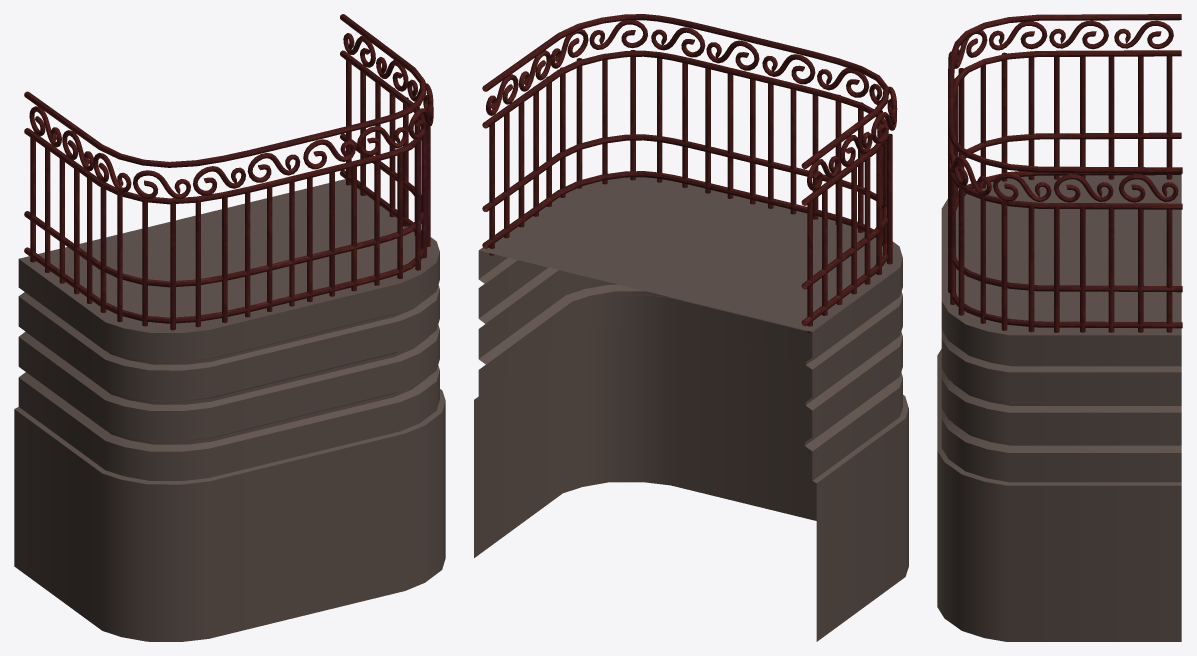
File: SK5 DECOR.fbx
3 views of the same model, side by side, from view 1: azimuth 30°, elevation 25°; view 2: azimuth 150°, elevation 25°; view 3: azimuth 270°, elevation 25° (orthographic).
Parts seen in each view (by area): view 1: SK5 DECOR; view 2: SK5 DECOR; view 3: SK5 DECOR.
Boxes of the visible parts, bbox=[...] form: SK5 DECOR: bbox=[14, 14, 445, 641]; SK5 DECOR: bbox=[474, 14, 908, 641]; SK5 DECOR: bbox=[937, 14, 1182, 641].
Size of the model in its own units: 192 by 254 by 120.
